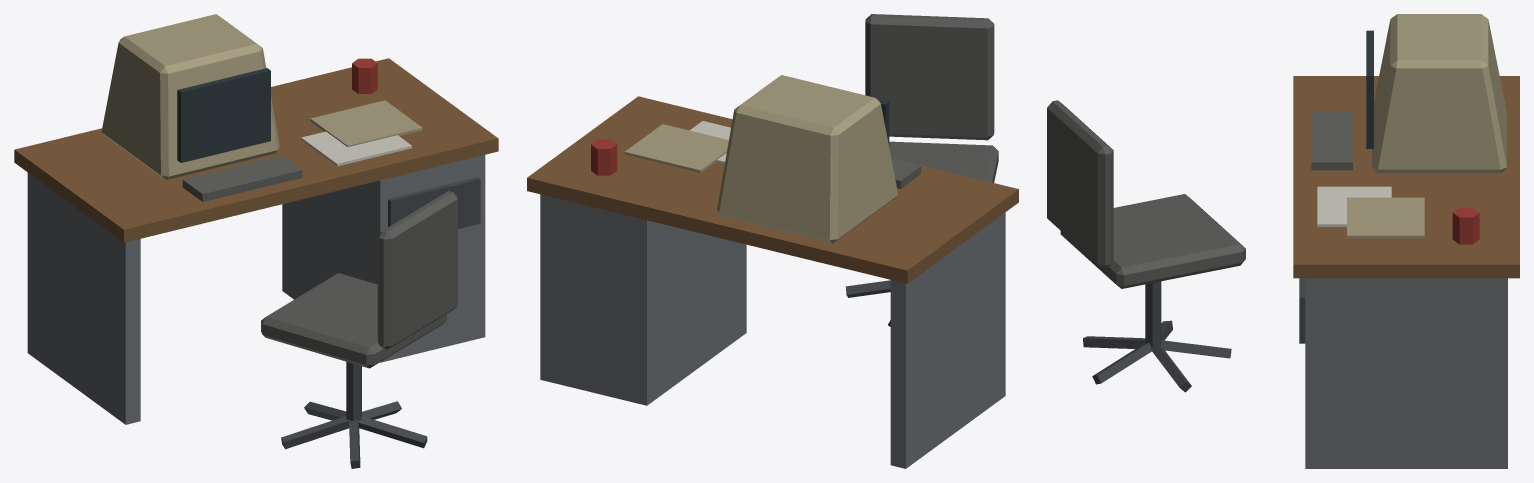
Rendered from terminal_room_desk.glb.
3 renders of one model, left to right at view 1: azimuth 30°, elevation 25°; view 2: azimuth 150°, elevation 25°; view 3: azimuth 270°, elevation 25°, orthographic. The views are drawn at different scales.
Visible parts, largest first — view 1: terminal_room_desk_mesh; view 2: terminal_room_desk_mesh; view 3: terminal_room_desk_mesh.
Part boxes in pixels (x1,y1,x2,y2): terminal_room_desk_mesh: (14, 14, 498, 468); terminal_room_desk_mesh: (527, 14, 1018, 468); terminal_room_desk_mesh: (1047, 14, 1519, 468).
Bounding box in the file's own units: 1.5 × 1.17 × 1.59.
